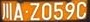A: (14, 3, 23, 20)
